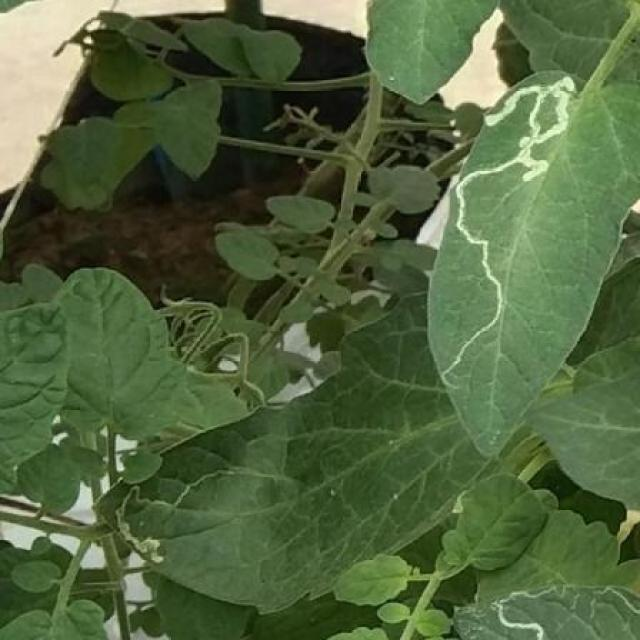Leaf Miner: (424, 71, 640, 462)
